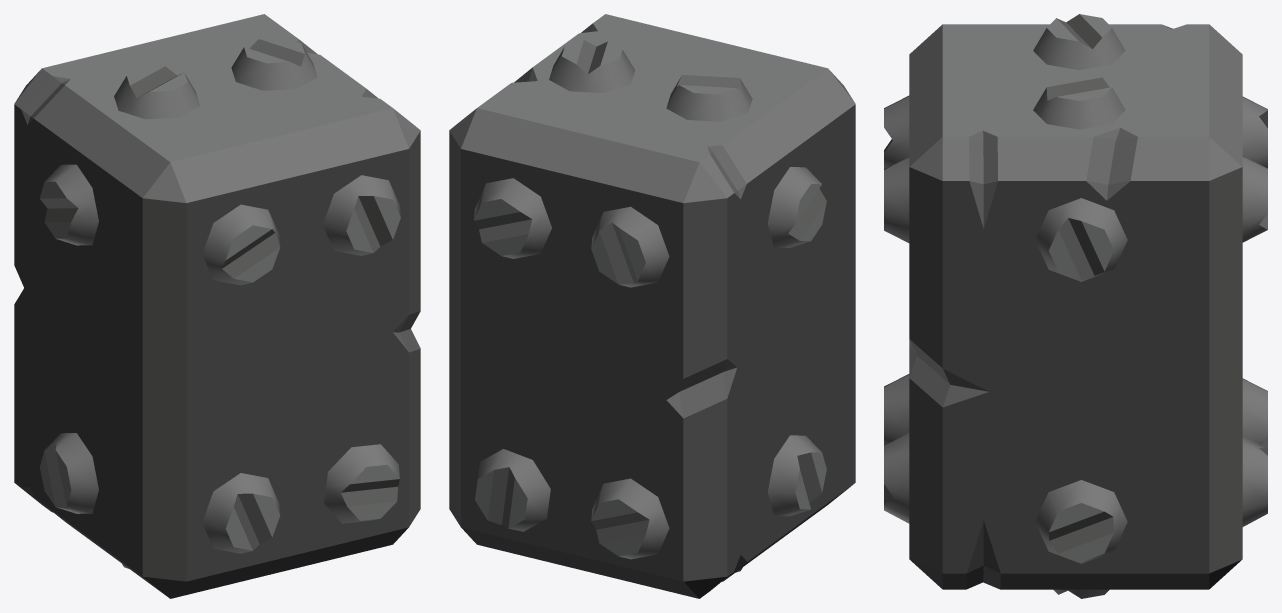
Rendered from m_kub_metalOld_vrickMid.FBX.
The picture shows the model from 3 angles, left to right: view 1: azimuth 30°, elevation 25°; view 2: azimuth 150°, elevation 25°; view 3: azimuth 270°, elevation 25°; orthographic projection. The views are drawn at different scales.
Parts seen in each view (by area): view 1: m_kub_metalOld_vrickMid; view 2: m_kub_metalOld_vrickMid; view 3: m_kub_metalOld_vrickMid.
Boxes of the visible parts, box(x1,y1,x2,y2) form: m_kub_metalOld_vrickMid: box(14, 14, 420, 598); m_kub_metalOld_vrickMid: box(449, 14, 855, 598); m_kub_metalOld_vrickMid: box(884, 14, 1267, 598).
Size of the model in its own units: 1.15 by 1.65 by 1.15.
